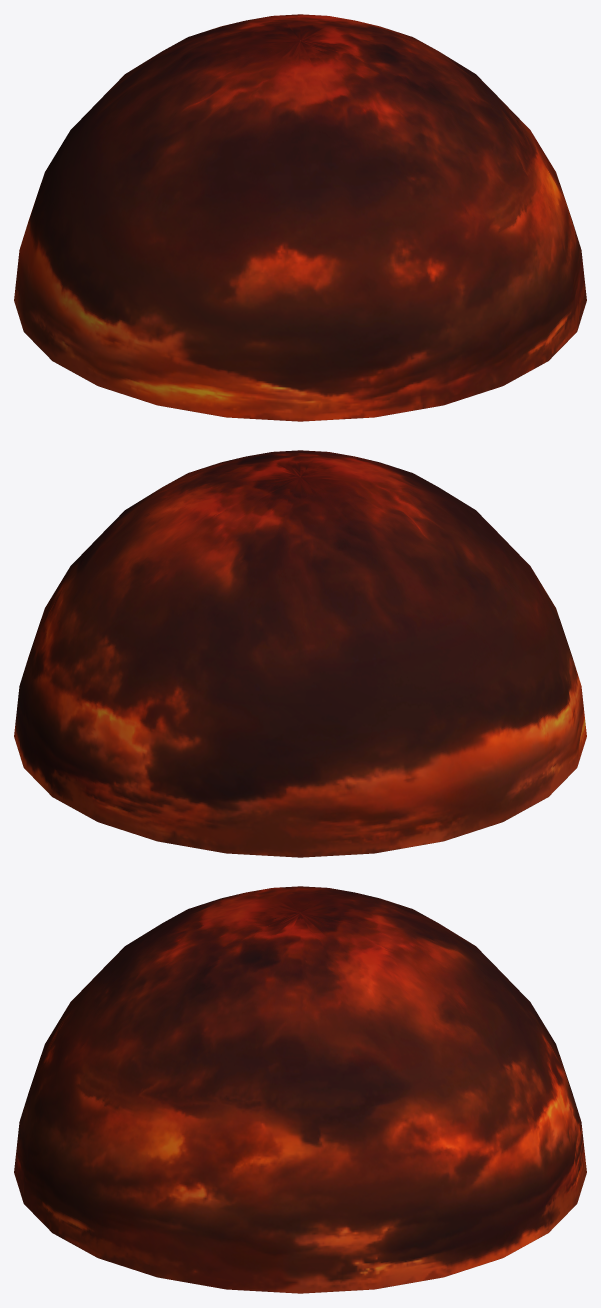
Rendered from cielo.obj.
3 views of the same model, one above another, from view 1: azimuth 30°, elevation 25°; view 2: azimuth 150°, elevation 25°; view 3: azimuth 270°, elevation 25° (orthographic).
Parts seen in each view (by area): view 1: Object_7; view 2: Object_7; view 3: Object_7.
Part boxes in pixels (x1,y1,x2,y2): Object_7: [14, 14, 586, 421]; Object_7: [14, 450, 586, 857]; Object_7: [14, 886, 586, 1293].
Bounding box in the file's own units: 357 × 178 × 357.
Materials: 1 (1 with a texture image).
